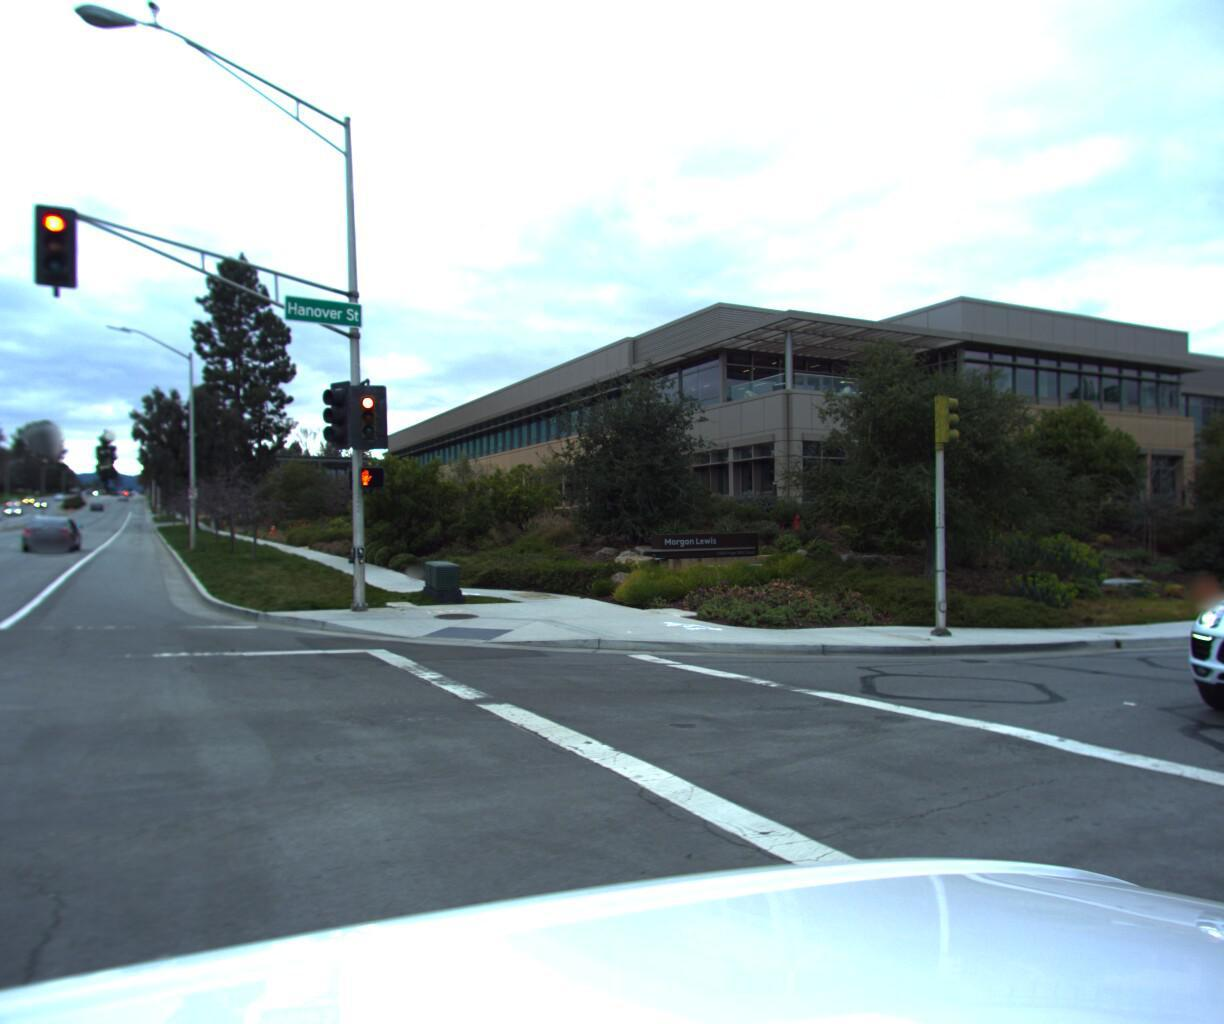car: (1160, 525, 1224, 781), (23, 517, 87, 557)
